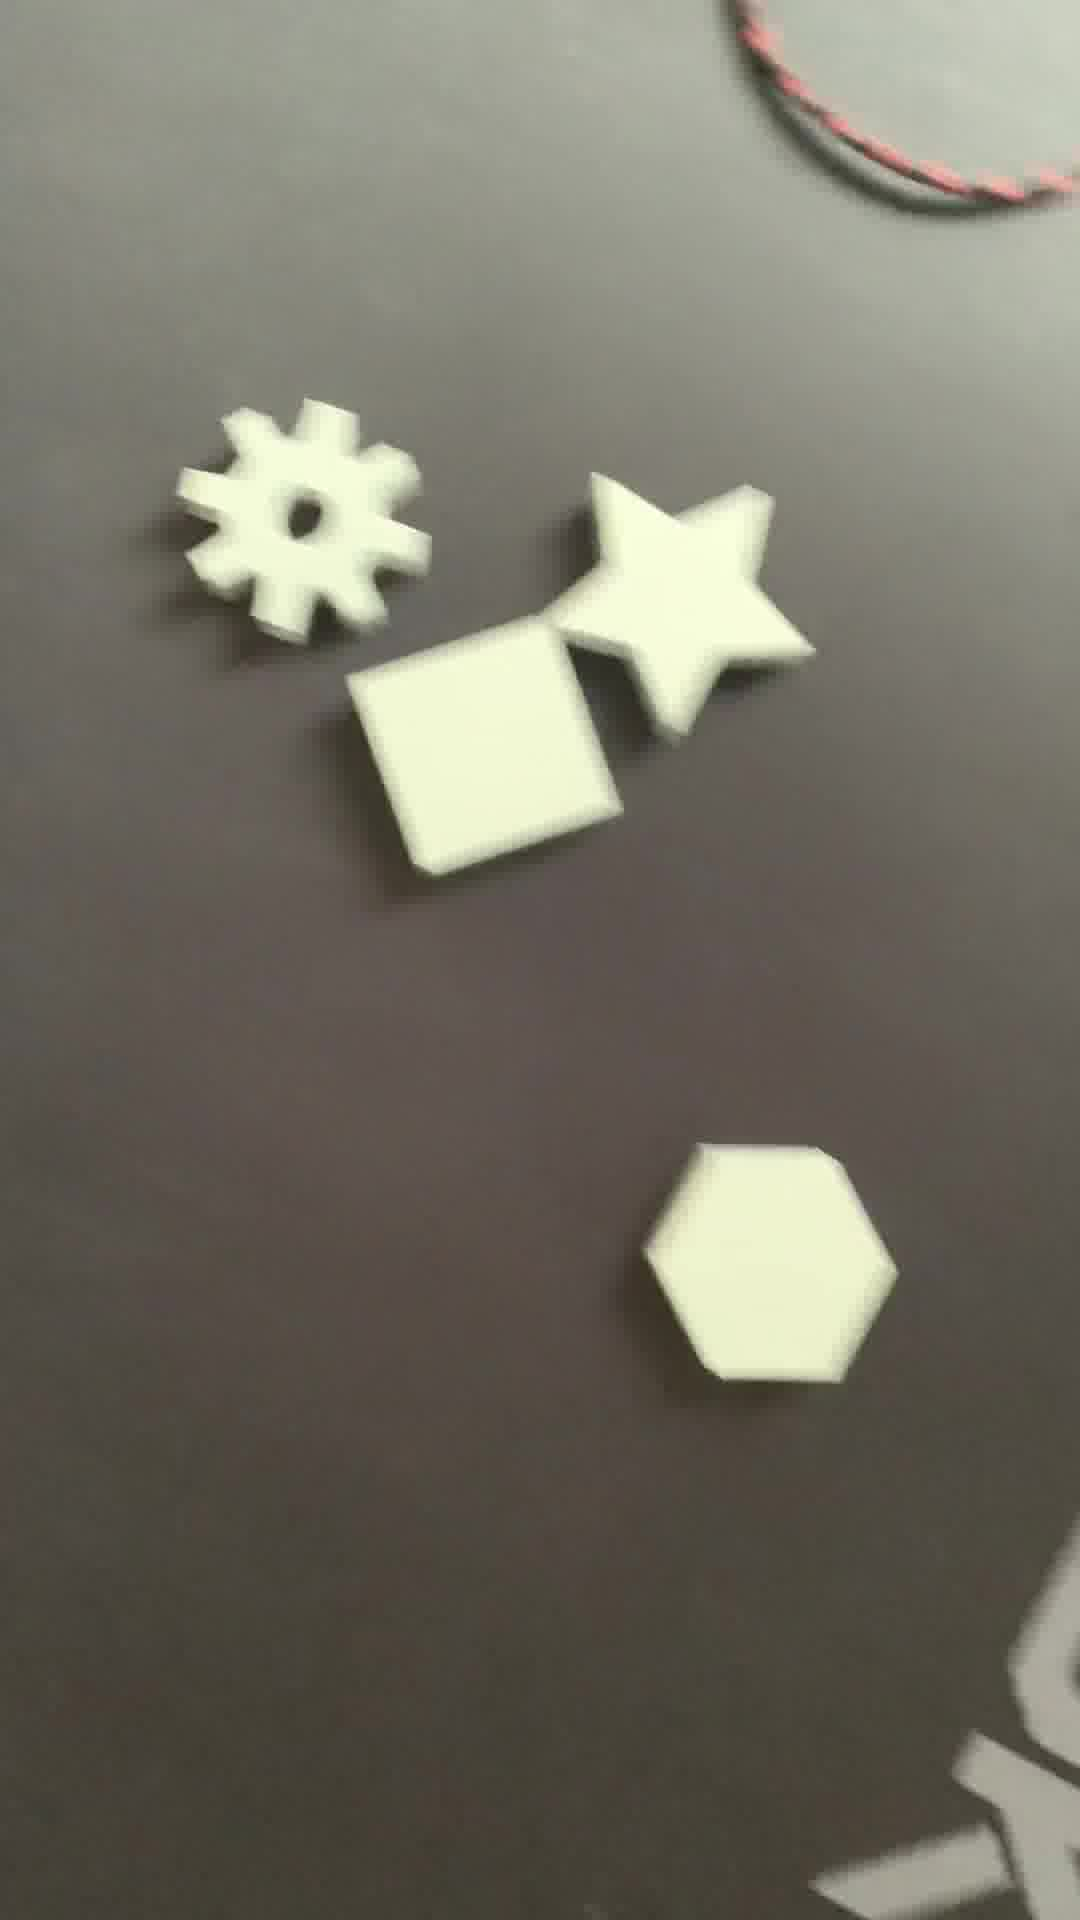Gray gear: (166, 392, 435, 661)
Gray hexagon: (637, 1149, 928, 1393)
Gray square: (351, 628, 626, 880)
Gray star: (551, 458, 818, 712)
